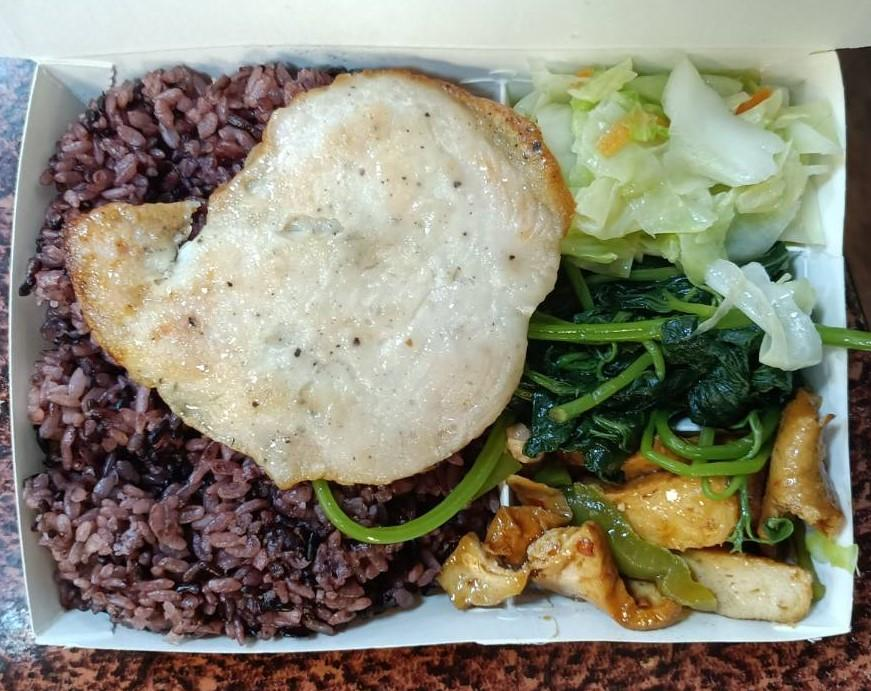big grilled chicken leg: (0, 35, 864, 669)
braised fish: (36, 77, 499, 620)
braised fish fillet: (496, 406, 837, 622), (508, 255, 826, 452), (506, 66, 817, 264)
braised pork: (47, 57, 575, 489)
